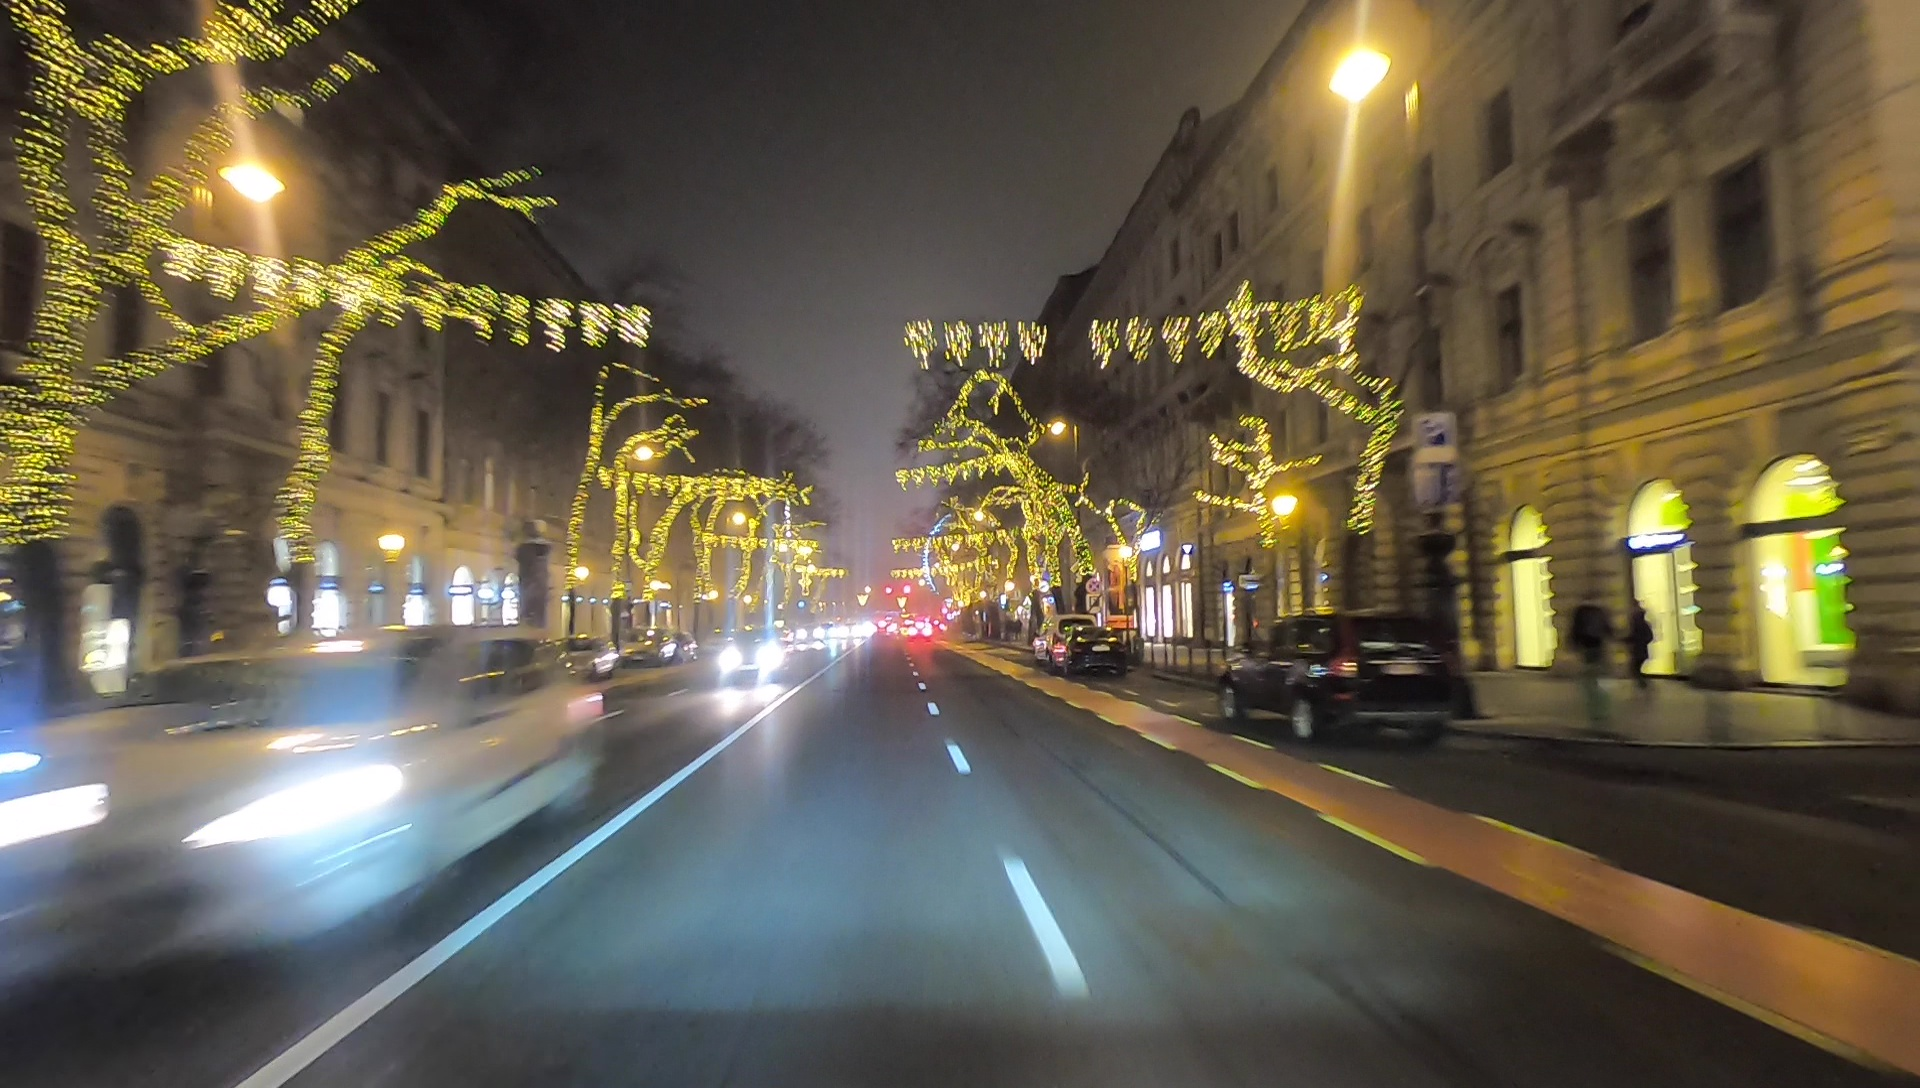person: (1567, 597, 1619, 734), (1623, 599, 1656, 695)
